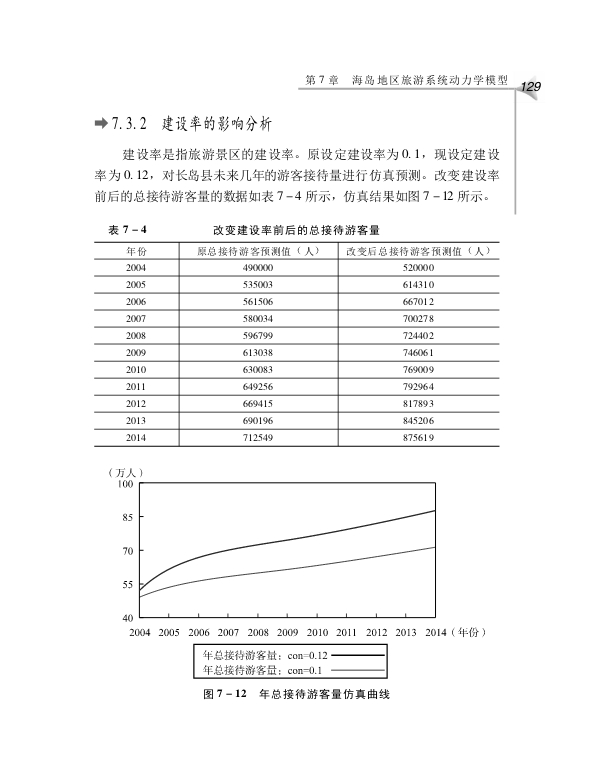table: (94, 241, 500, 446)
